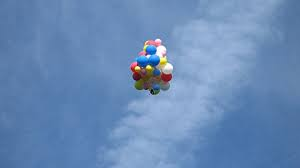Balloon: (162, 62, 174, 74), (149, 55, 160, 66), (137, 56, 148, 66), (146, 45, 156, 54), (134, 81, 143, 90), (133, 72, 142, 80), (155, 38, 161, 45)
